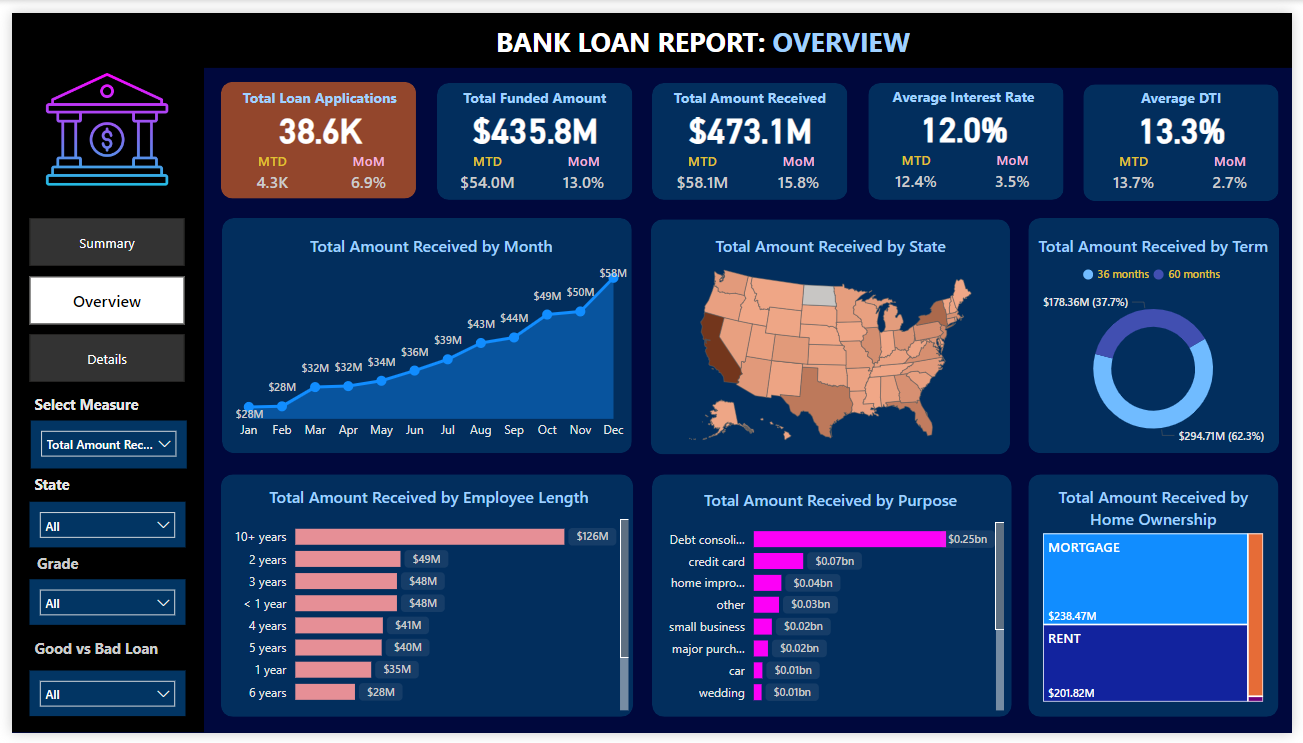

The page's visual inventory and layout, read from the dashboard file:
{"tool":"powerbi","page":{"name":"Overview","canvas":[1280,720],"ordinal":1},"visuals":[{"type":"shape","box":[1016.2,461.5,250.3,242.7],"z":0},{"type":"shape","box":[640.1,461.5,359.7,242.7],"z":1000},{"type":"shape","box":[208.8,461.5,412.5,242.7],"z":2000},{"type":"shape","box":[638.2,206.3,359.5,235.3],"z":3000},{"type":"shape","box":[210,205,410,235.2],"z":4000},{"type":"shape","box":[0,54.2,192.2,665.4],"z":5000},{"type":"shape","box":[640.1,70.1,195.6,117],"z":6000},{"type":"shape","box":[1071.3,71.1,195.6,117],"z":7000},{"type":"shape","box":[855.7,70.6,195.6,117],"z":8000},{"type":"shape","box":[424.5,69.7,195.6,117],"z":9000},{"type":"shape","box":[208.9,69.2,195.6,117],"z":10000},{"type":"shape","box":[0,0,1280.3,54.9],"z":11000},{"type":"textbox","box":[456,4.8,469.3,45.8],"z":12000},{"type":"group","id":"g1","title":"Group 1","box":[425.1,70.2,194.7,117.1],"z":13000},{"type":"group","id":"g2","title":"Group 1","box":[639.5,70.2,195.9,117.1],"z":14000},{"type":"group","id":"g3","title":"Group 1","box":[853.9,69,195.9,117.1],"z":15000},{"type":"card","title":"Total Loan Applications","fields":{"Values":["financial_loan.avg_interest_rate"]},"box":[855.1,94.5,194.3,41.3],"z":15000,"group":"g3"},{"type":"card","title":"Total Loan Applications","fields":{"Values":["financial_loan.total_loan_application"]},"box":[210.7,95.7,194.3,41.3],"z":15000,"group":"g5"},{"type":"card","title":"Total Loan Applications","fields":{"Values":["financial_loan.total_funded_amount"]},"box":[426.3,95.7,194.3,41.3],"z":15000,"group":"g1"},{"type":"card","title":"Total Loan Applications","fields":{"Values":["financial_loan.total_amount_received"]},"box":[640.7,95.7,194.3,41.3],"z":15000,"group":"g2"},{"type":"card","title":"Total Loan Applications","fields":{"Values":["financial_loan.avg_dti"]},"box":[1072,95.7,194.3,41.3],"z":15000,"group":"g4"},{"type":"group","id":"g4","title":"Group 1","box":[1070.8,70.2,195.9,117.1],"z":16000},{"type":"group","id":"g5","title":"Group 1","box":[209.5,70.2,194.7,117.1],"z":17000},{"type":"shape","box":[1015.8,205.1,250.9,235.3],"z":18000},{"type":"slicer","fields":{"Values":["financial_loan.address_state"]},"box":[18.1,488.6,155.6,45.8],"z":18000,"group":"g7"},{"type":"textbox","box":[853.9,69,195.6,32.8],"z":19000,"group":"g3"},{"type":"textbox","box":[209.5,70.2,195.6,32.8],"z":19000,"group":"g5"},{"type":"textbox","box":[425.1,70.2,195.6,32.8],"z":19000,"group":"g1"},{"type":"textbox","box":[639.5,70.2,195.6,32.8],"z":19000,"group":"g2"},{"type":"textbox","box":[1070.8,70.2,195.6,32.8],"z":19000,"group":"g4"},{"type":"areaChart","fields":{"Y":["financial_loan.Total Amount Received"],"Category":["date_table.month"]},"box":[218.8,221.3,401.2,213.8],"z":19000},{"type":"textbox","box":[18.1,456,58.4,32.6],"z":19000,"group":"g7"},{"type":"slicer","fields":{"Values":["financial_loan.grade"]},"box":[18.1,565.8,155.6,45.8],"z":20000},{"type":"card","title":"MTD","fields":{"Values":["financial_loan.mtd_avg_interest_rate"]},"box":[855.1,138.2,98.4,47.4],"z":21000,"group":"g3"},{"type":"card","title":"MTD","fields":{"Values":["financial_loan.mtd_loan_applications"]},"box":[210.7,139.4,98.4,47.4],"z":21000,"group":"g5"},{"type":"card","title":"MTD","fields":{"Values":["financial_loan.mtd_funded_amount"]},"box":[426.3,139.4,98.4,47.4],"z":21000,"group":"g1"},{"type":"card","title":"MTD","fields":{"Values":["financial_loan.mtd_amount_received"]},"box":[640.7,139.4,98.4,47.4],"z":21000,"group":"g2"},{"type":"card","title":"MTD","fields":{"Values":["financial_loan.mtd_avg_dti"]},"box":[1072,139.4,98.4,47.4],"z":21000,"group":"g4"},{"type":"shapeMap","fields":{"Value":["financial_loan.Total Amount Received"],"Category":["financial_loan.address_state"]},"box":[640.1,221.3,357.2,220.1],"z":21000},{"type":"slicer","fields":{"Values":["financial_loan.Good vs Bad Loan"]},"box":[18.1,657.5,155.6,45.8],"z":22000},{"type":"card","title":"MoM","fields":{"Values":["financial_loan.mom_avg_interest_rate"]},"box":[951.1,138.2,98.4,47.4],"z":23000,"group":"g3"},{"type":"card","title":"MoM","fields":{"Values":["financial_loan.mom_loan_applications"]},"box":[306.7,139.4,98.4,47.4],"z":23000,"group":"g5"},{"type":"card","title":"MoM","fields":{"Values":["financial_loan.mom_funded_amount"]},"box":[522.3,139.4,98.4,47.4],"z":23000,"group":"g1"},{"type":"card","title":"MoM","fields":{"Values":["financial_loan.mom_amount_received"]},"box":[736.7,139.4,98.4,47.4],"z":23000,"group":"g2"},{"type":"card","title":"MoM","fields":{"Values":["financial_loan.mom_avg_dti"]},"box":[1168,139.4,98.4,47.4],"z":23000,"group":"g4"},{"type":"donutChart","fields":{"Y":["financial_loan.Total Amount Received"],"Category":["financial_loan.term"]},"box":[1016.2,221.3,250.3,220.1],"z":23000},{"type":"slicer","fields":{"Values":["Select Measure.Select Measure"]},"box":[19.4,407.9,155.6,48.3],"z":24000,"group":"g6"},{"type":"textbox","box":[18.1,620.1,146,37.4],"z":24000},{"type":"textbox","box":[18.1,376.4,130.3,30.2],"z":25000,"group":"g6"},{"type":"barChart","fields":{"Y":["financial_loan.Total Amount Received"],"Category":["financial_loan.emp_length"]},"box":[212.5,472.9,408.7,230.1],"z":25000},{"type":"textbox","box":[20.5,534.5,88.1,31.4],"z":26000},{"type":"barChart","fields":{"Y":["financial_loan.Total Amount Received"],"Category":["financial_loan.purpose"]},"box":[640.1,475.4,357.2,227.6],"z":27000},{"type":"treemap","fields":{"Values":["financial_loan.Total Amount Received"],"Group":["financial_loan.home_ownership"]},"box":[1026.2,472.9,230.1,221.3],"z":28000},{"type":"pageNavigator","box":[18.1,205.1,155.6,164.1],"z":29000},{"type":"group","id":"g6","title":"Group 2","box":[18.1,376.4,156.8,79.6],"z":30000},{"type":"group","id":"g7","title":"Group 3","box":[18.1,456,155.6,78.4],"z":31000},{"type":"image","box":[18.1,27.7,155.6,177.3],"z":32000}]}

Visuals, with their boxes in screenshot pixels (x1, y1, x2, y2), scaled from the page's 1280x720 canvas onto the 1303x743 screenshot:
shape: BBox(1034, 476, 1289, 727)
shape: BBox(652, 476, 1018, 727)
shape: BBox(213, 476, 632, 727)
shape: BBox(650, 213, 1016, 456)
shape: BBox(214, 212, 631, 454)
shape: BBox(0, 56, 196, 742)
shape: BBox(652, 72, 851, 193)
shape: BBox(1091, 73, 1290, 194)
shape: BBox(871, 73, 1070, 194)
shape: BBox(432, 72, 631, 193)
shape: BBox(213, 71, 412, 192)
shape: BBox(0, 0, 1302, 57)
textbox: BBox(464, 5, 942, 52)
"Group 1" group: BBox(433, 72, 631, 193)
"Group 1" group: BBox(651, 72, 850, 193)
"Group 1" group: BBox(869, 71, 1069, 192)
"Total Loan Applications" card: BBox(870, 98, 1068, 140)
"Total Loan Applications" card: BBox(214, 99, 412, 141)
"Total Loan Applications" card: BBox(434, 99, 632, 141)
"Total Loan Applications" card: BBox(652, 99, 850, 141)
"Total Loan Applications" card: BBox(1091, 99, 1289, 141)
"Group 1" group: BBox(1090, 72, 1289, 193)
"Group 1" group: BBox(213, 72, 411, 193)
shape: BBox(1034, 212, 1289, 454)
slicer - financial_loan.address_state: BBox(18, 504, 177, 551)
textbox: BBox(869, 71, 1068, 105)
textbox: BBox(213, 72, 412, 106)
textbox: BBox(433, 72, 632, 106)
textbox: BBox(651, 72, 850, 106)
textbox: BBox(1090, 72, 1289, 106)
areaChart - financial_loan.Total Amount Received x date_table.month: BBox(223, 228, 631, 449)
textbox: BBox(18, 471, 78, 504)
slicer - financial_loan.grade: BBox(18, 584, 177, 631)
"MTD" card: BBox(870, 143, 971, 192)
"MTD" card: BBox(214, 144, 315, 193)
"MTD" card: BBox(434, 144, 534, 193)
"MTD" card: BBox(652, 144, 752, 193)
"MTD" card: BBox(1091, 144, 1191, 193)
shapeMap - financial_loan.Total Amount Received x financial_loan.address_state: BBox(652, 228, 1015, 456)
slicer - financial_loan.Good vs Bad Loan: BBox(18, 679, 177, 726)
"MoM" card: BBox(968, 143, 1068, 192)
"MoM" card: BBox(312, 144, 412, 193)
"MoM" card: BBox(532, 144, 632, 193)
"MoM" card: BBox(750, 144, 850, 193)
"MoM" card: BBox(1189, 144, 1289, 193)
donutChart - financial_loan.Total Amount Received x financial_loan.term: BBox(1034, 228, 1289, 456)
slicer - Select Measure.Select Measure: BBox(20, 421, 178, 471)
textbox: BBox(18, 640, 167, 679)
textbox: BBox(18, 388, 151, 420)
barChart - financial_loan.Total Amount Received x financial_loan.emp_length: BBox(216, 488, 632, 725)
textbox: BBox(21, 552, 111, 584)
barChart - financial_loan.Total Amount Received x financial_loan.purpose: BBox(652, 491, 1015, 725)
treemap - financial_loan.Total Amount Received x financial_loan.home_ownership: BBox(1045, 488, 1279, 716)
pageNavigator: BBox(18, 212, 177, 381)
"Group 2" group: BBox(18, 388, 178, 471)
"Group 3" group: BBox(18, 471, 177, 551)
image: BBox(18, 29, 177, 212)
